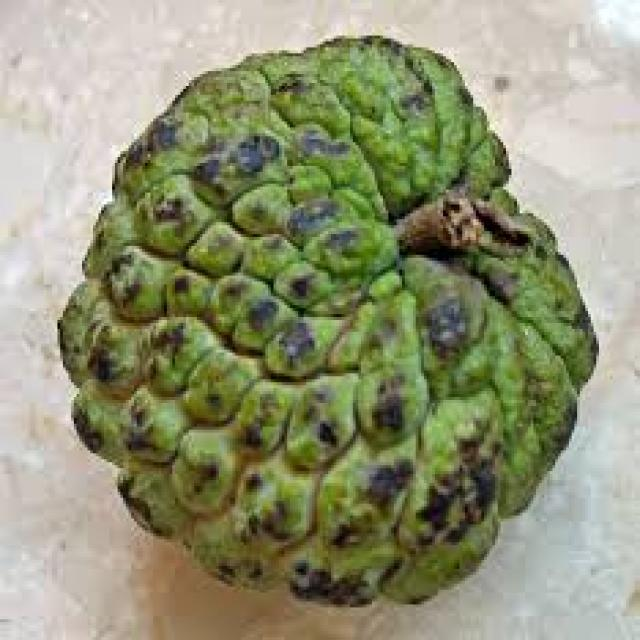organic waste: (52, 32, 591, 608)
